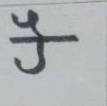ai_matra: (16, 12, 49, 36)
